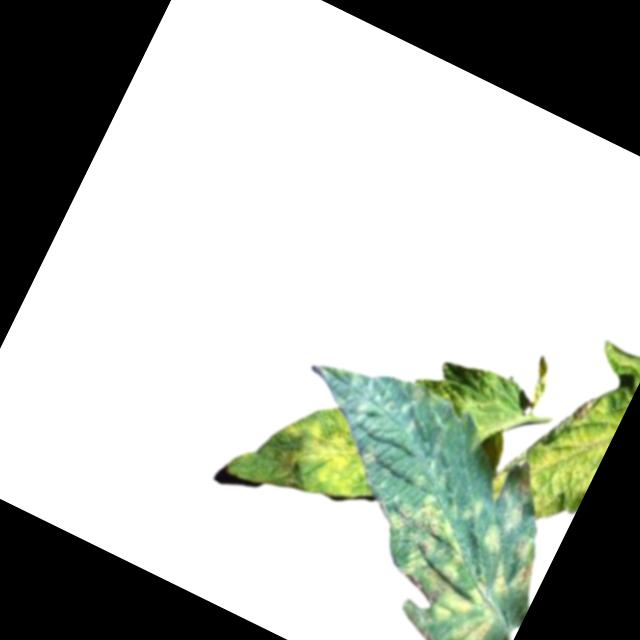Leaf_Mold: (334, 465, 552, 640), (487, 374, 625, 542), (267, 398, 386, 509)
